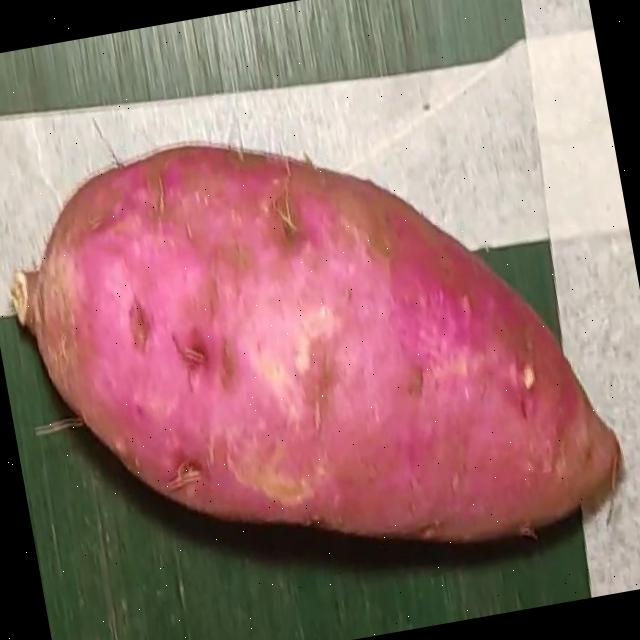Sweet Potato: (10, 142, 623, 544)
